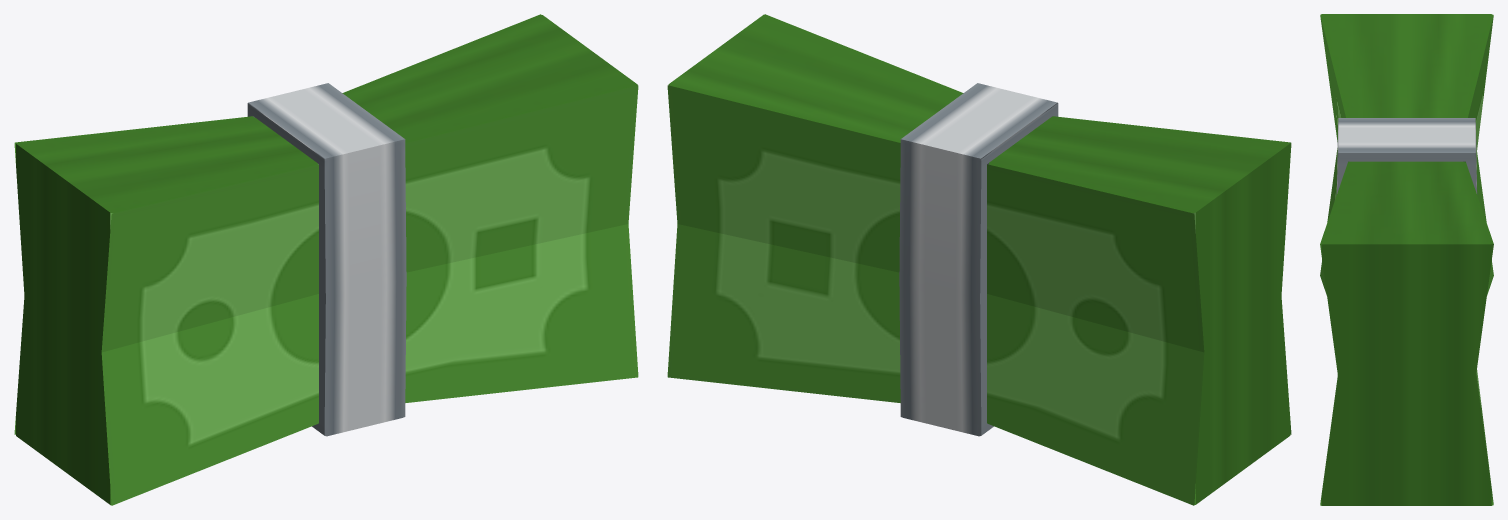
The model's file is Money.fbx.
3 views of the same model, side by side, from view 1: azimuth 30°, elevation 25°; view 2: azimuth 150°, elevation 25°; view 3: azimuth 270°, elevation 25° (orthographic). The views are drawn at different scales.
Parts seen in each view (by area): view 1: Money; view 2: Money; view 3: Money.
Boxes of the visible parts, box(x1,y1,x2,y2) form: Money: box(14, 14, 638, 505); Money: box(667, 14, 1291, 505); Money: box(1320, 14, 1493, 505).
Size of the model in its own units: 75.6 by 40.08 by 24.14.
